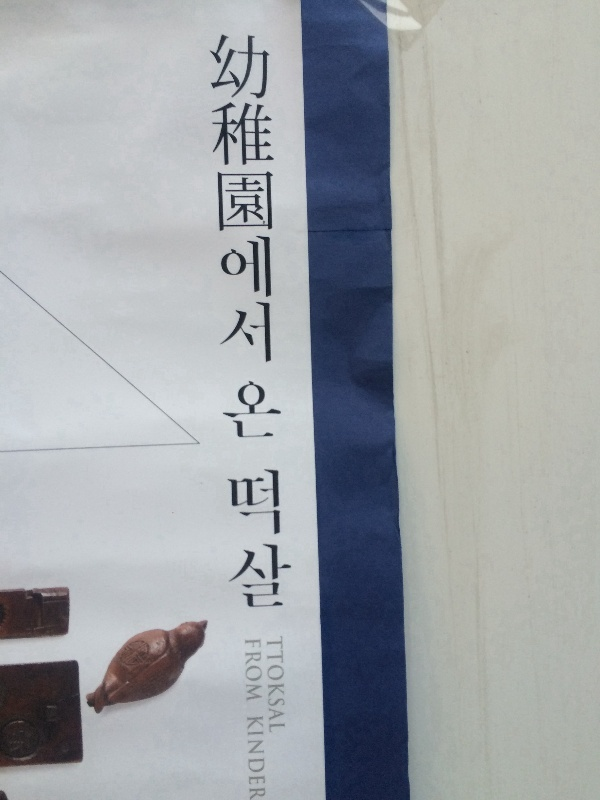text: (209, 26, 224, 375), (225, 26, 240, 375), (241, 26, 256, 375), (257, 26, 272, 375), (273, 26, 282, 375), (225, 464, 240, 621), (241, 464, 256, 621), (257, 464, 272, 621), (273, 464, 288, 621), (273, 628, 288, 740), (289, 464, 298, 621), (241, 708, 256, 800), (241, 632, 256, 711), (225, 376, 240, 451), (241, 376, 256, 451), (257, 376, 272, 451), (273, 376, 288, 451), (257, 708, 269, 800), (205, 26, 208, 375), (264, 628, 272, 740), (257, 632, 264, 711), (217, 376, 224, 451), (221, 464, 224, 621), (289, 628, 290, 740), (289, 376, 290, 451)
